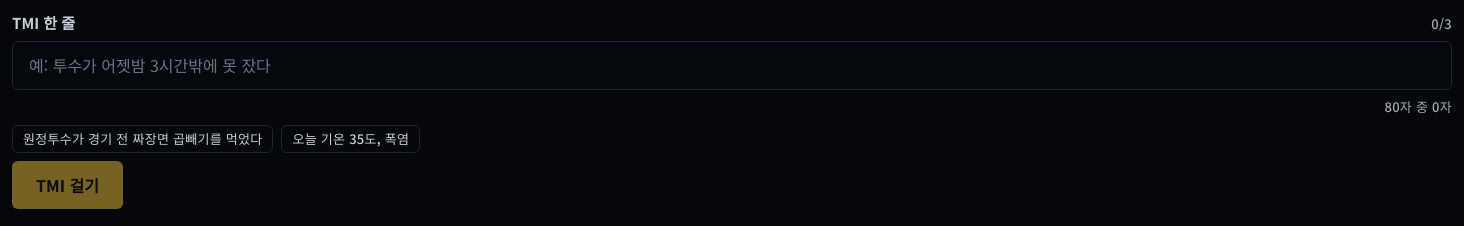
Scenario: TmiComposer › 예시 칩을 누르면 입력에 채우고 제출하지는 않는다
This screenshot has width=1464, height=226.
Click the button "오늘 기온 35도, 폭염" at (351, 139), box [282,125,420,153]
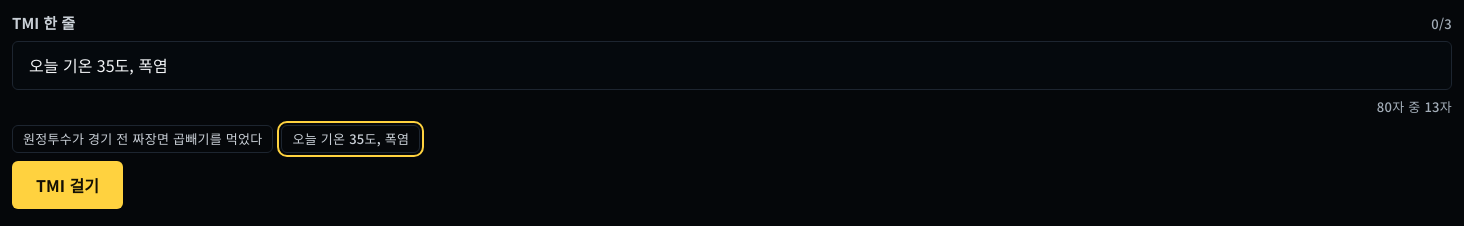
Expected: the field labelled "TMI 한 줄" holds "오늘 기온 35도, 폭염", [12,41,1452,90]
